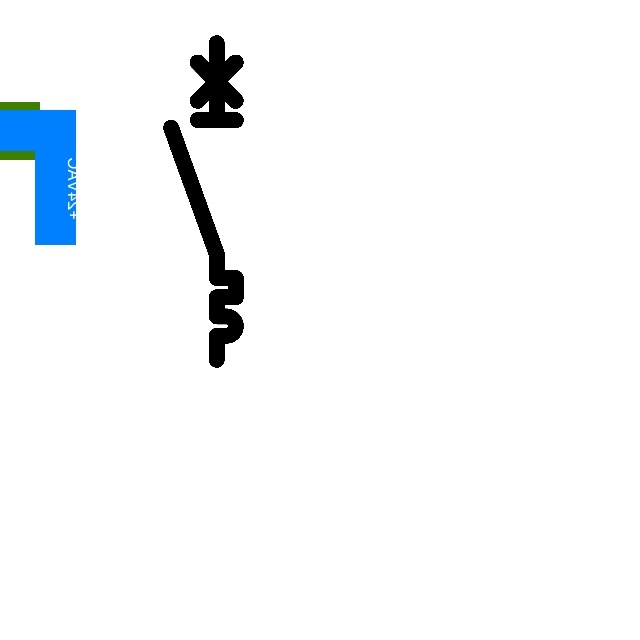interruptor_termomagnetico: (163, 35, 244, 368)
